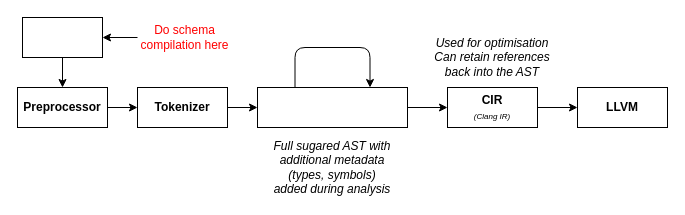
Some shapes in this 685 by 215 pixel diagram are drawn without their labels. Each missing label, with the box of its shape:
AST: (256, 86, 408, 128)
Text: (22, 16, 102, 58)
